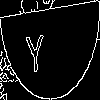Y: (25, 25, 46, 74)
